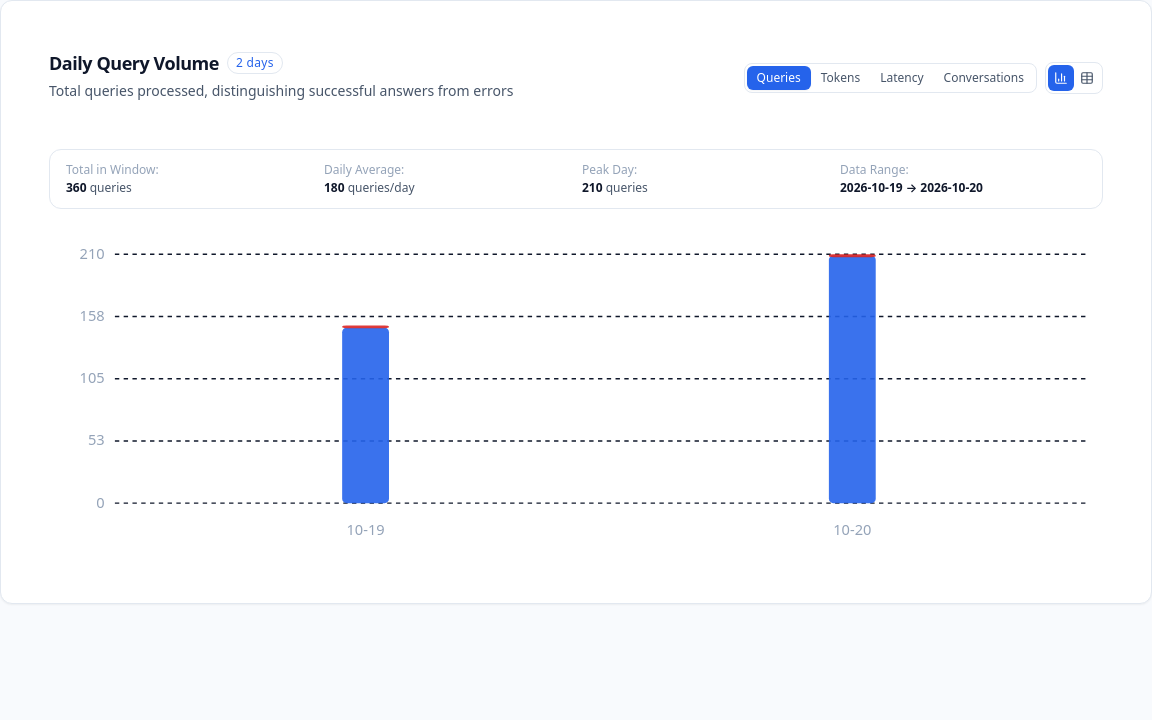
Phase 7 Milestone 7 — Frontend Integration, Accessibility & Acceptance Audit › 3. Accessibility Audit (WCAG AA Compliance) › provides accessible SVG chart role, aria-label, and accessible table fallback in TrendChart
Check: the picture named "chart spanning 2 days" is shown, box [49,225,1103,547]
Note: Switch to accessible table mode
Click the button named "table view": (1087, 78) [1074,65,1100,91]
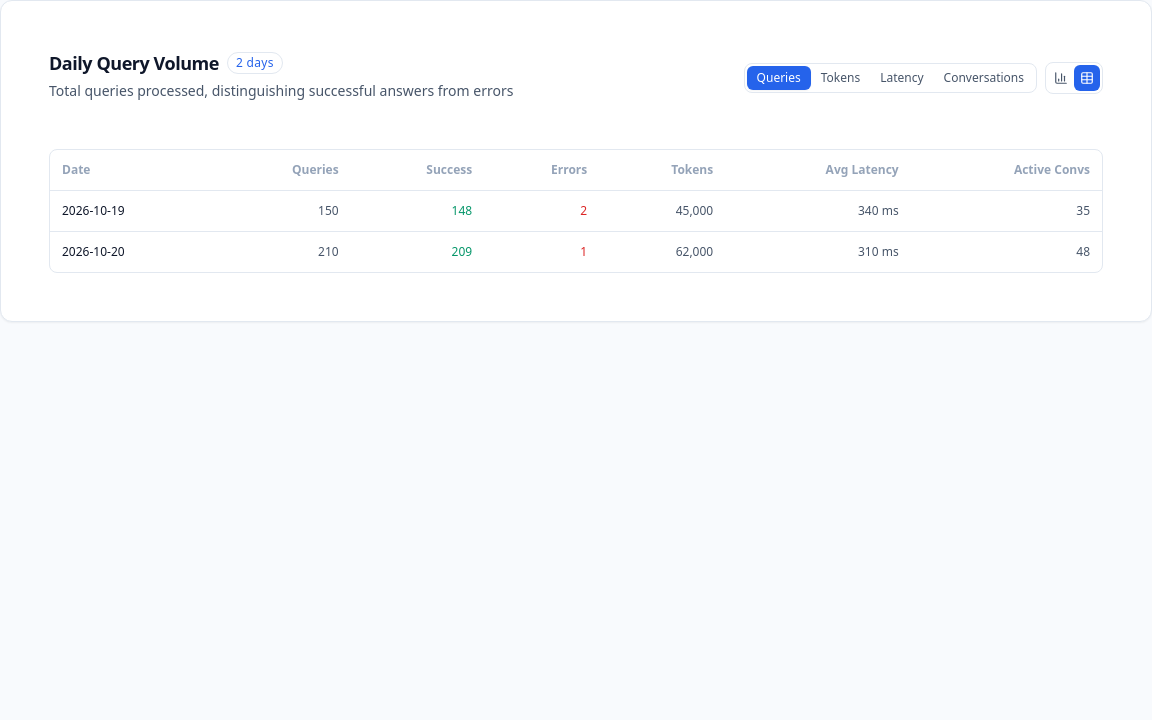
Check: the text "2026-10-19" is shown, box [50,190,216,232]
Check: the table is shown, box [50,150,1102,272]
Check: the number of column headings is 7
